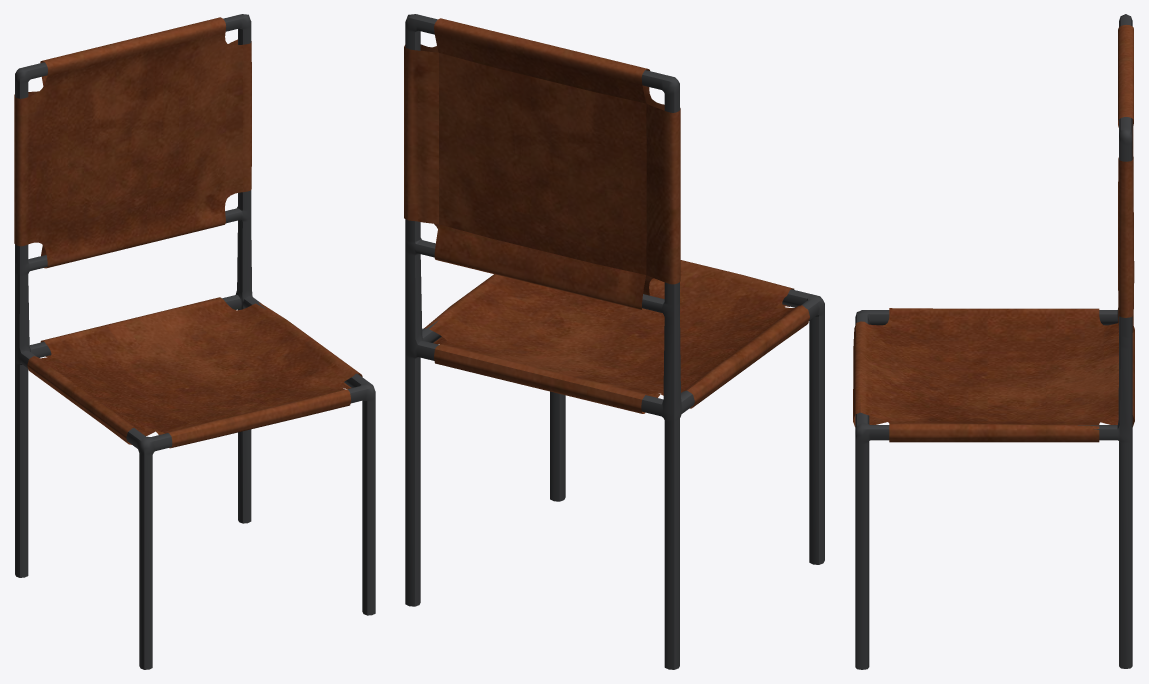
3 renders of one model, left to right at view 1: azimuth 30°, elevation 25°; view 2: azimuth 150°, elevation 25°; view 3: azimuth 270°, elevation 25°, orthographic. The views are drawn at different scales.
Visible parts, largest first — view 1: Object_2; view 2: Object_2; view 3: Object_2.
Boxes of the visible parts, box(x1,y1,x2,y2) form: Object_2: box(14, 14, 375, 669); Object_2: box(404, 14, 824, 669); Object_2: box(853, 14, 1134, 669).
Size of the model in its own units: 26.15 by 53.57 by 25.39.
Materials: 1 (1 with a texture image).
